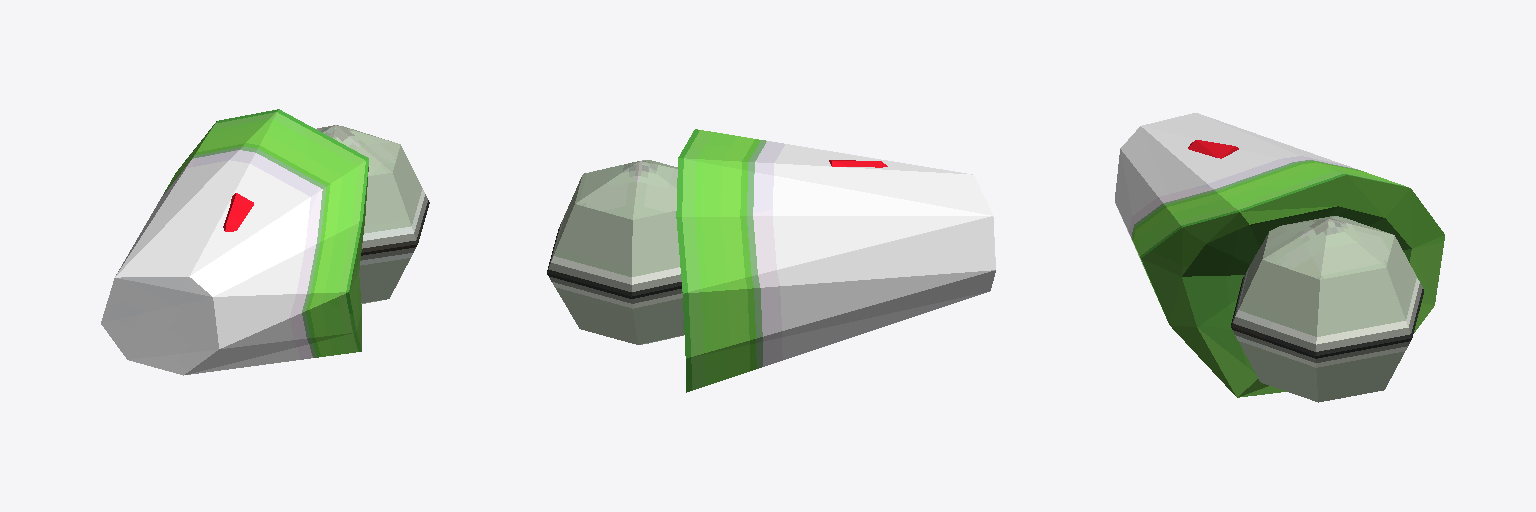
3 views of the same model, side by side, from view 1: azimuth 30°, elevation 25°; view 2: azimuth 150°, elevation 25°; view 3: azimuth 270°, elevation 25° (orthographic).
Visible parts, largest first — view 1: buzzlightyRightForearm_buzzlighty.001; view 2: buzzlightyRightForearm_buzzlighty.001; view 3: buzzlightyRightForearm_buzzlighty.001.
Part boxes in pixels (bbox=[...]): buzzlightyRightForearm_buzzlighty.001: bbox=[101, 109, 429, 375]; buzzlightyRightForearm_buzzlighty.001: bbox=[547, 129, 995, 392]; buzzlightyRightForearm_buzzlighty.001: bbox=[1115, 113, 1444, 402].
Size of the model in its own units: 0.1712 by 0.0927 by 0.1279.
1 materials, 1 textured.